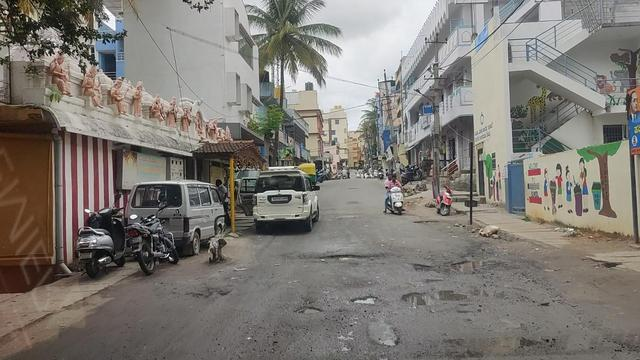LMV: (382, 175, 402, 211)
RoadDamages: (463, 336, 553, 358), (406, 255, 491, 276), (306, 244, 378, 267), (395, 285, 465, 306), (359, 314, 403, 347), (475, 279, 514, 314), (351, 284, 378, 306), (293, 304, 322, 317)
